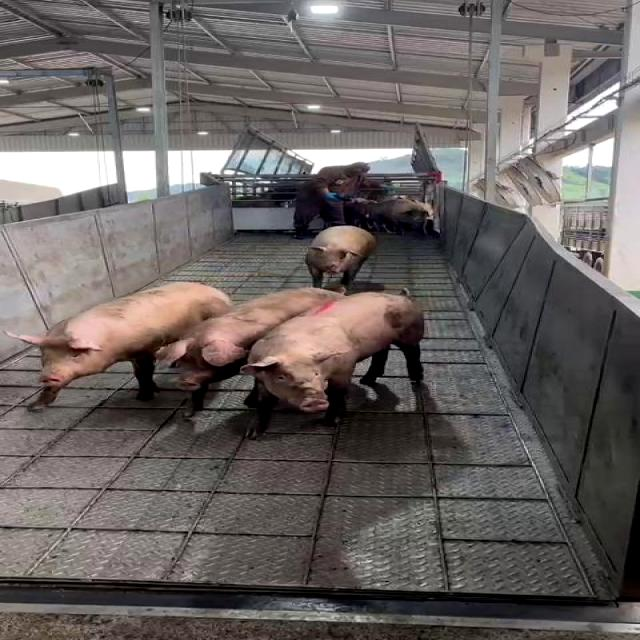pig: (5, 282, 231, 411), (241, 291, 424, 437), (156, 288, 344, 416), (305, 225, 376, 288)
